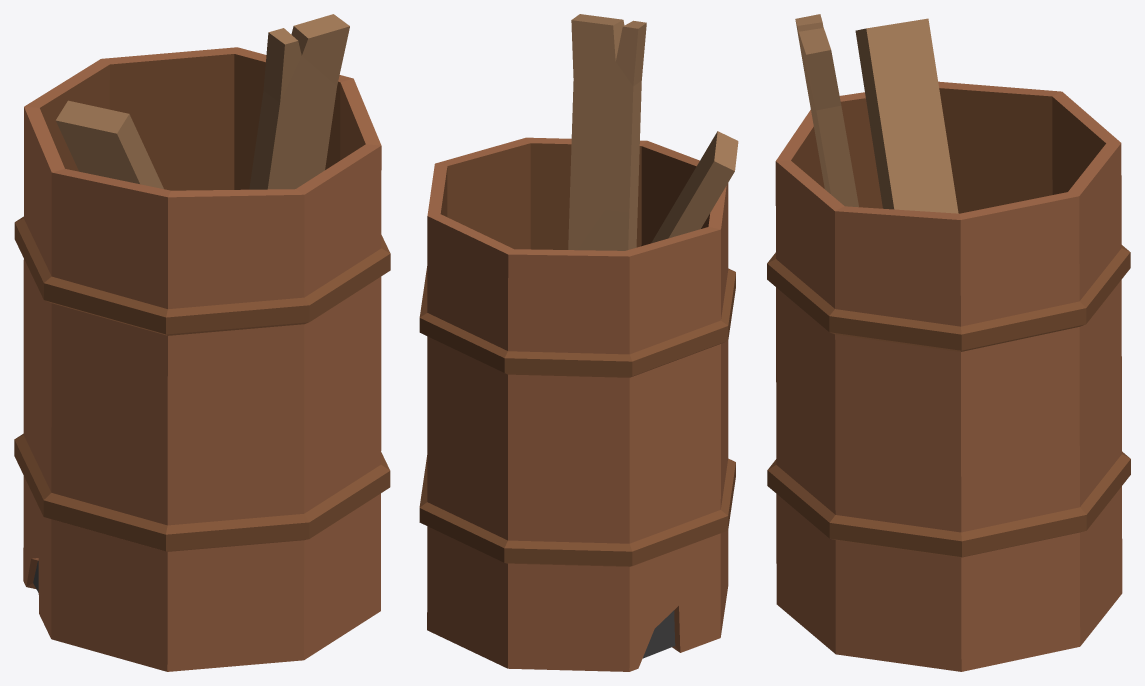
Rendered from barrel.glb.
The picture shows the model from 3 angles, left to right: view 1: azimuth 30°, elevation 25°; view 2: azimuth 150°, elevation 25°; view 3: azimuth 270°, elevation 25°; orthographic projection. The views are drawn at different scales.
Parts seen in each view (by area): view 1: SM_Prop_Barrel_01; view 2: SM_Prop_Barrel_01; view 3: SM_Prop_Barrel_01.
Part boxes in pixels (x1,y1,x2,y2): SM_Prop_Barrel_01: (14,14,390,671); SM_Prop_Barrel_01: (419,14,738,671); SM_Prop_Barrel_01: (767,14,1130,671).
Bounding box in the file's own units: 0.6664 × 1.18 × 0.6671.
1 material, 1 textured.
